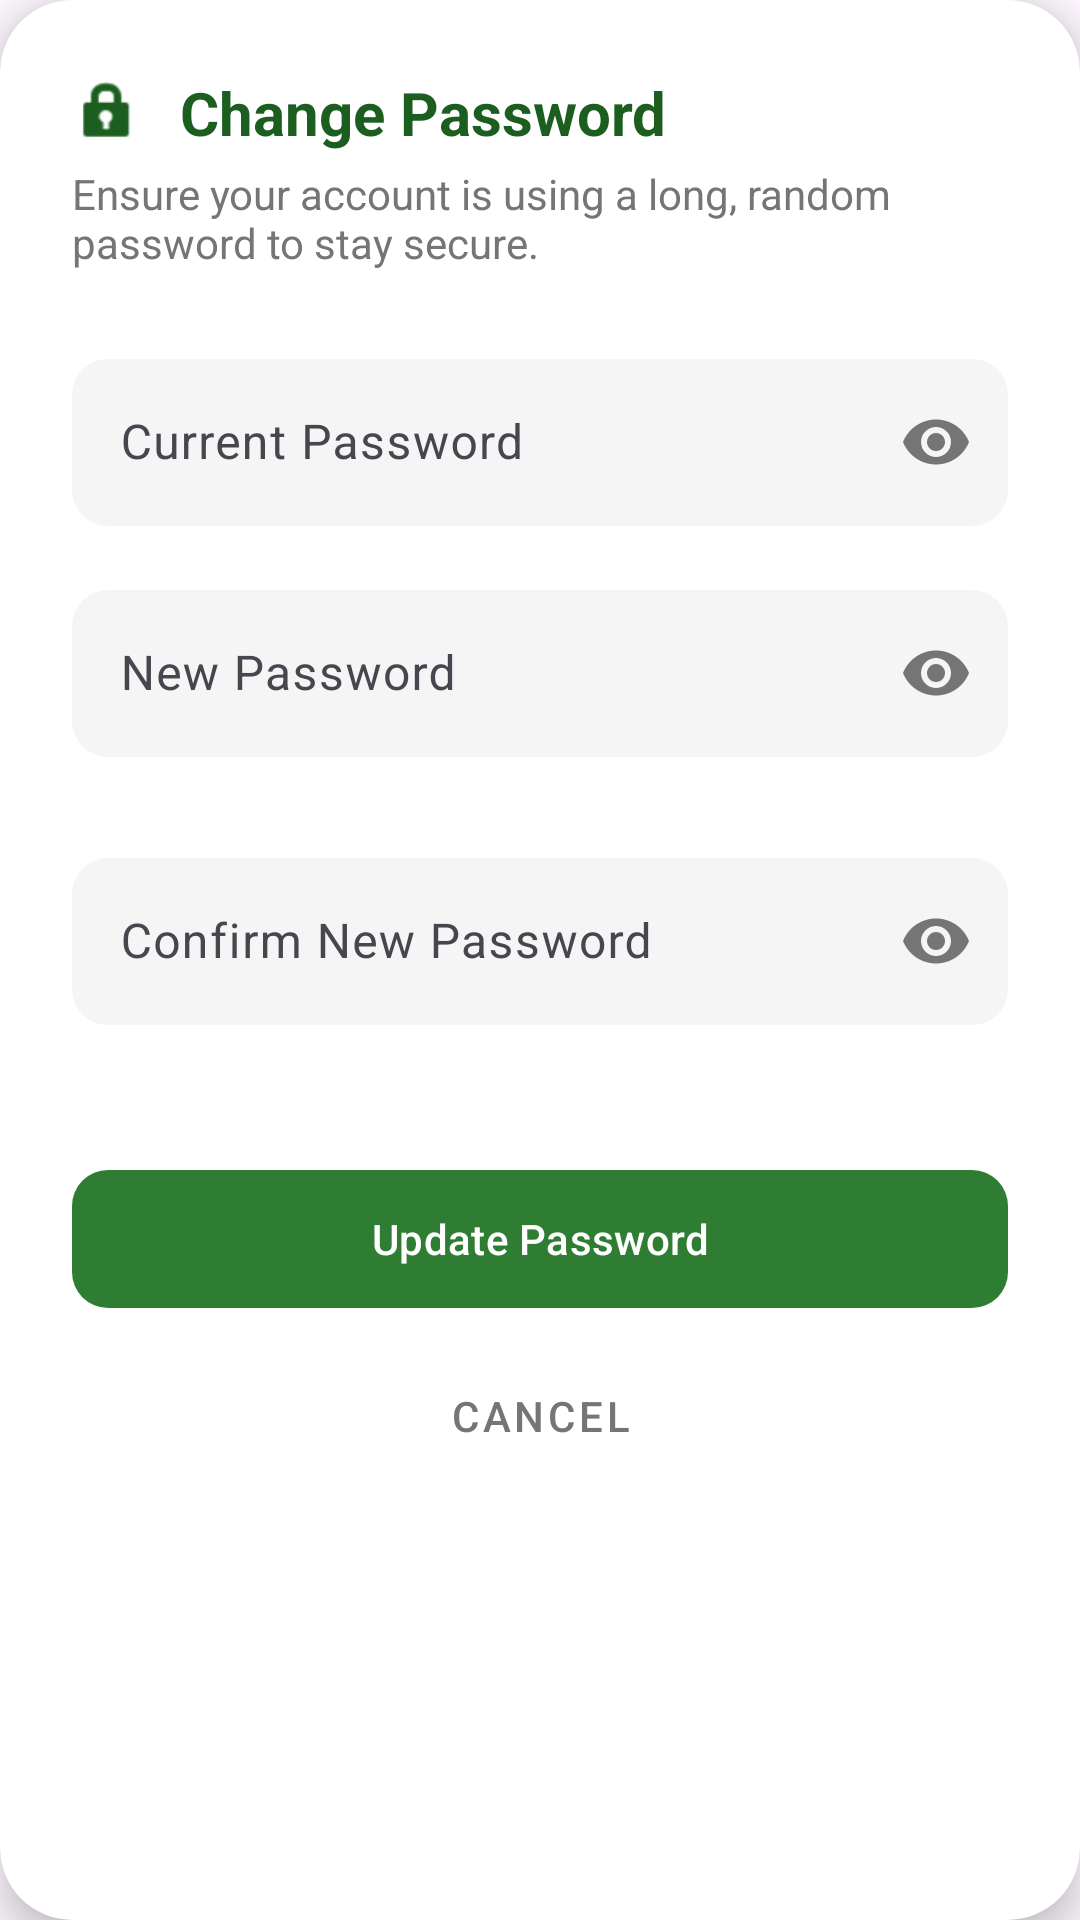

Screen size 1080×1920. Icon name, then its center in pixels as (x=x, y=y):
lock idle: (x=106, y=109)
